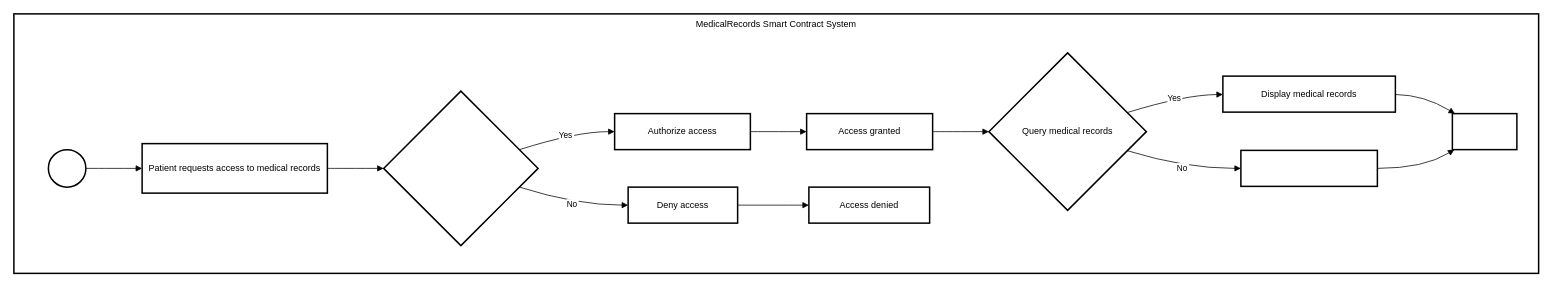
This 1552x287 diagram has some shape labels left out. The shapes that lost their labels are listed below. From the top down, each one's centre as x and y in pixels, then its label:
At point (1484, 131): "End".
At point (66, 168): "Start".
At point (460, 168): "Patient ID verification".
At point (1309, 168): "No records found".
